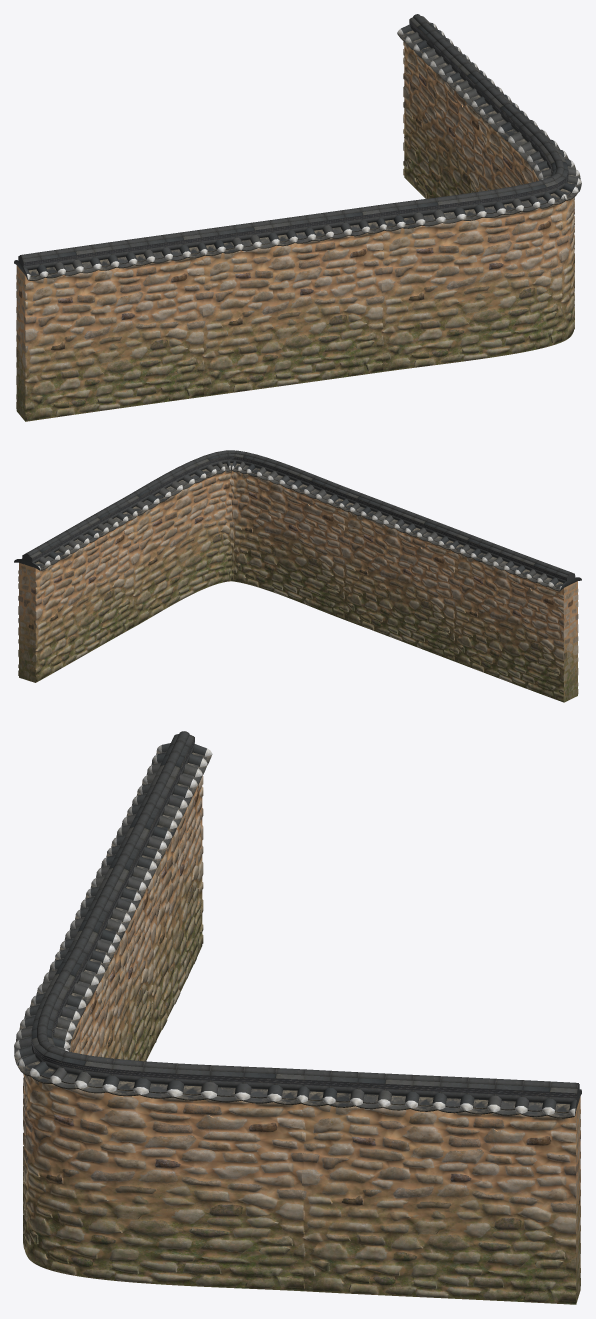
Rendered from SM_Stonewall03A_Splines_4.fbx.
The picture shows the model from 3 angles, top to bottom: view 1: azimuth 30°, elevation 25°; view 2: azimuth 150°, elevation 25°; view 3: azimuth 270°, elevation 25°; orthographic projection. The views are drawn at different scales.
Visible parts, largest first — view 1: SM_Stonewall03A_Splines_4; view 2: SM_Stonewall03A_Splines_4; view 3: SM_Stonewall03A_Splines_4.
Boxes of the visible parts, x1,y1,x2,y2 form: SM_Stonewall03A_Splines_4: (14,14,581,421); SM_Stonewall03A_Splines_4: (14,450,581,702); SM_Stonewall03A_Splines_4: (14,731,581,1304).
Size of the model in its own units: 1214 by 795 by 330.
